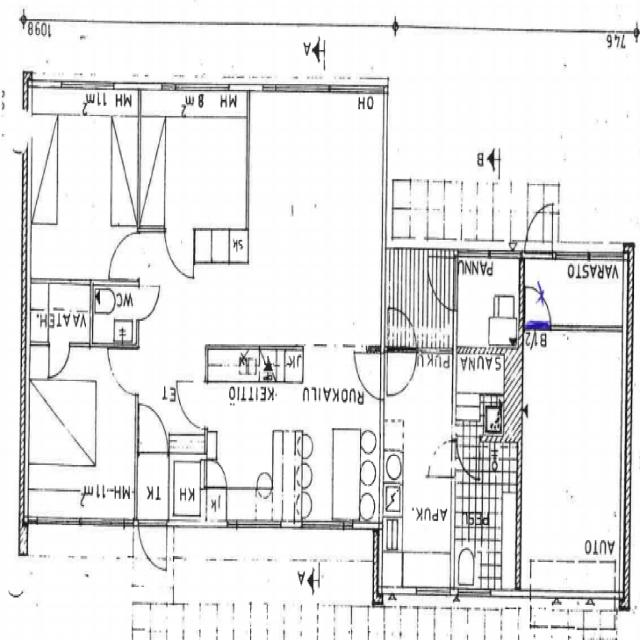door: (524, 203, 553, 260), (387, 297, 416, 354), (387, 346, 416, 403), (139, 522, 167, 581), (424, 261, 456, 310), (175, 381, 207, 429), (164, 226, 193, 278), (140, 406, 168, 458), (352, 354, 383, 400), (108, 350, 138, 394), (109, 233, 138, 277), (458, 435, 480, 478), (431, 442, 456, 478), (49, 342, 70, 382), (134, 288, 156, 319), (200, 460, 222, 487)
